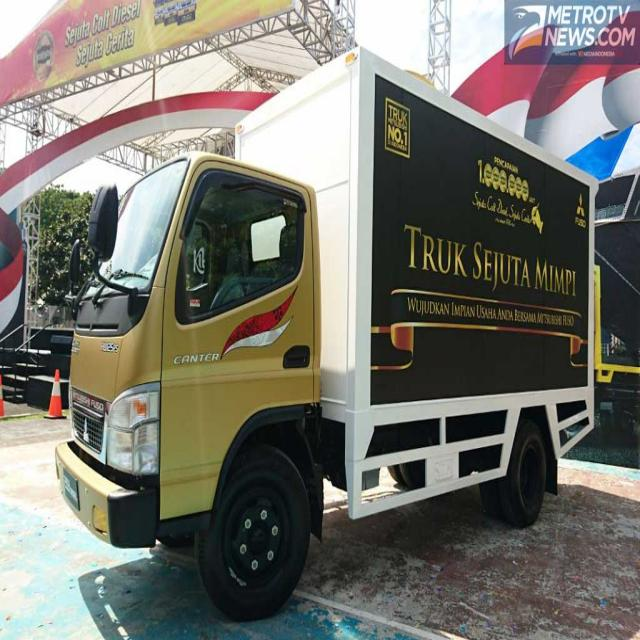truck: (53, 43, 595, 612)
